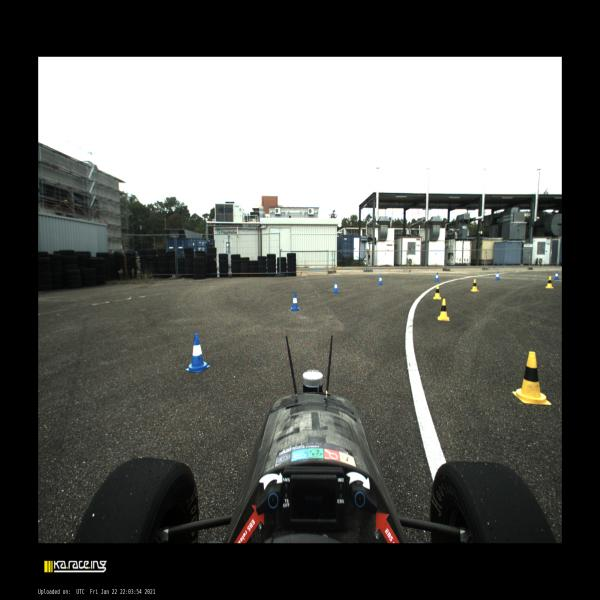blue_cone: (186, 334, 210, 372), (290, 292, 300, 310), (333, 281, 339, 293), (554, 270, 559, 280), (495, 271, 500, 280), (378, 275, 383, 284), (435, 272, 439, 282)
yellow_cone: (512, 352, 552, 405), (437, 299, 450, 320), (433, 284, 441, 300), (470, 279, 479, 291), (546, 276, 554, 288)
